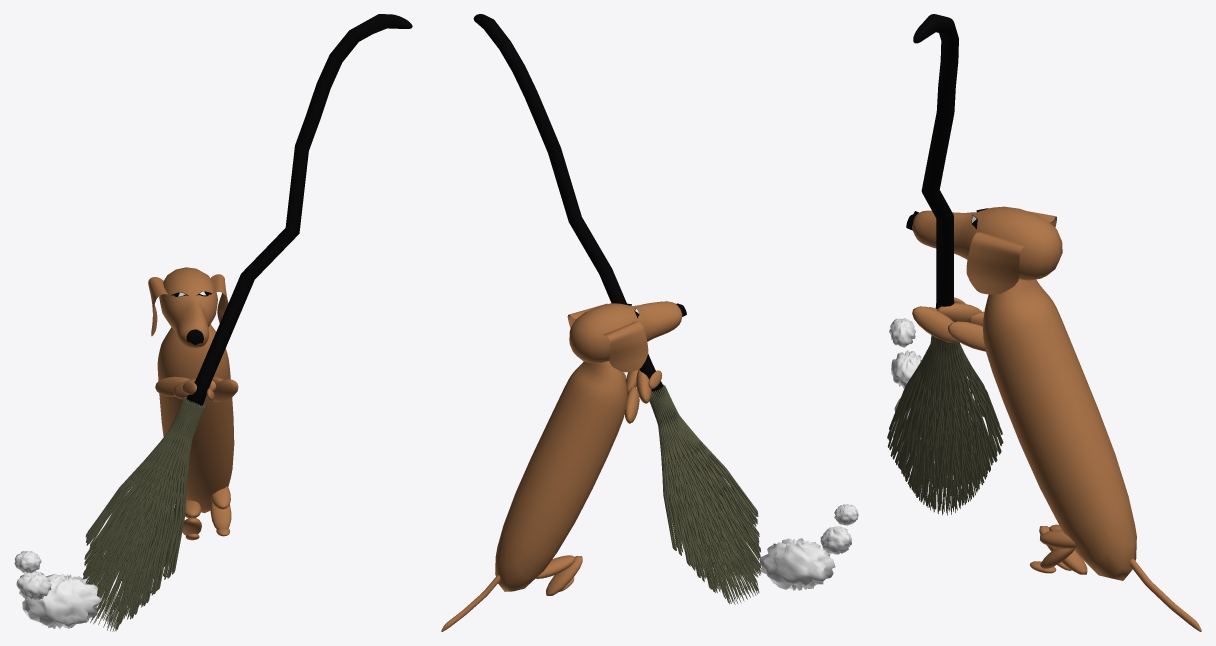
The model's file is 01_broom.fbx.
3 views of the same model, side by side, from view 1: azimuth 30°, elevation 25°; view 2: azimuth 150°, elevation 25°; view 3: azimuth 270°, elevation 25° (orthographic). The views are drawn at different scales.
Visible parts, largest first — view 1: Vert, Broom, Corps, Vert.001, Tete, Dust, Vert.002, Vert.003, Vert.004, Oreilles, Dust.001; view 2: Corps, Vert, Broom, Tete, Vert.001, Dust, Vert.002, Oreilles, Vert.003, Vert.004, Dust.001, Cube.013; view 3: Corps, Vert, Broom, Tete, Vert.001, Oreilles, Vert.002, Cube.004, Vert.003, Cube.002, Dust.001, Queue (+4 smaller).
Part boxes in pixels (bbox=[...]): Vert: bbox=[85, 397, 205, 579]; Broom: bbox=[186, 14, 412, 405]; Corps: bbox=[157, 324, 234, 513]; Vert.001: bbox=[84, 438, 183, 596]; Tete: bbox=[159, 267, 217, 347]; Dust: bbox=[22, 574, 102, 628]; Vert.002: bbox=[82, 470, 165, 607]; Vert.003: bbox=[86, 503, 156, 619]; Vert.004: bbox=[87, 512, 147, 631]; Oreilles: bbox=[148, 274, 228, 336]; Dust.001: bbox=[16, 571, 51, 600]; Corps: bbox=[495, 361, 627, 591]; Vert: bbox=[649, 384, 758, 556]; Broom: bbox=[473, 14, 662, 396]; Tete: bbox=[569, 301, 682, 363]; Vert.001: bbox=[666, 415, 759, 570]; Dust: bbox=[760, 538, 835, 590]; Vert.002: bbox=[686, 466, 760, 582]; Oreilles: bbox=[567, 303, 648, 372]; Vert.003: bbox=[692, 483, 761, 592]; Vert.004: bbox=[700, 495, 759, 604]; Dust.001: bbox=[820, 526, 851, 554]; Cube.013: bbox=[546, 556, 582, 595]; Corps: bbox=[983, 279, 1136, 580]; Vert: bbox=[887, 335, 1003, 488]; Broom: bbox=[913, 14, 958, 309]; Tete: bbox=[912, 206, 1062, 280]; Vert.001: bbox=[897, 354, 993, 497]; Oreilles: bbox=[966, 211, 1056, 294]; Vert.002: bbox=[902, 390, 987, 504]; Cube.004: bbox=[912, 306, 958, 342]; Vert.003: bbox=[911, 408, 980, 511]; Cube.002: bbox=[948, 321, 985, 351]; Dust.001: bbox=[891, 350, 921, 388]; Queue: bbox=[1130, 558, 1201, 631].
Bounding box in the file's own units: 905 × 1192 × 520.
